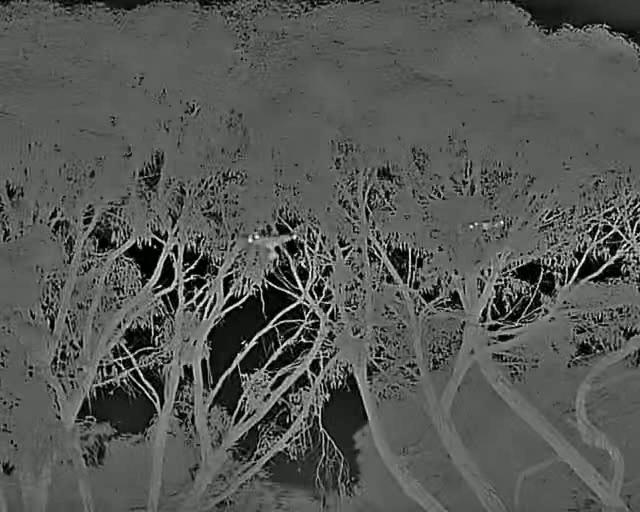DJI-Phantom: (247, 235, 302, 265)
